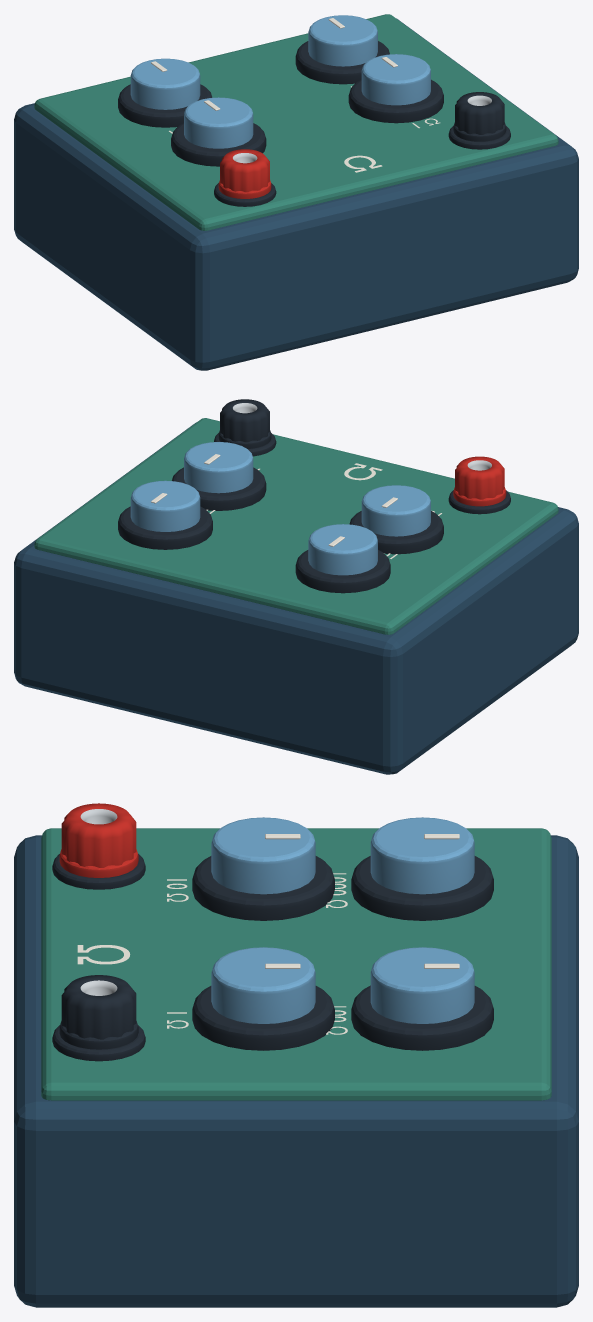
The model's file is resistance-box.glb.
The picture shows the model from 3 angles, top to bottom: view 1: azimuth 30°, elevation 25°; view 2: azimuth 150°, elevation 25°; view 3: azimuth 270°, elevation 25°; orthographic projection. The views are drawn at different scales.
Parts seen in each view (by area): view 1: Insulated resistance box shell, Recessed decade panel, Molded selector cap, Molded selector cap.003, Molded selector cap.002, Molded selector cap.001, Knob fixed skirt.003, p binding socket, n binding socket, Knob fixed skirt.002, Knob fixed skirt, Knob fixed skirt.001 (+2 smaller); view 2: Insulated resistance box shell, Recessed decade panel, Molded selector cap.001, Molded selector cap, Molded selector cap.002, Molded selector cap.003, Knob fixed skirt, Knob fixed skirt.001, p binding socket, n binding socket, Knob fixed skirt.003, Knob fixed skirt.002 (+1 smaller); view 3: Insulated resistance box shell, Recessed decade panel, Molded selector cap.003, Molded selector cap, Molded selector cap.002, Molded selector cap.001, Knob fixed skirt.002, Knob fixed skirt, Knob fixed skirt.003, Knob fixed skirt.001, p binding socket, n binding socket (+4 smaller).
Boxes of the visible parts, <box> form: Insulated resistance box shell: <box>14,18,578,370</box>; Recessed decade panel: <box>34,14,558,230</box>; Molded selector cap: <box>130,58,200,109</box>; Molded selector cap.003: <box>361,54,430,105</box>; Molded selector cap.002: <box>184,97,253,148</box>; Molded selector cap.001: <box>308,15,377,66</box>; Knob fixed skirt.003: <box>348,79,443,123</box>; p binding socket: <box>220,149,269,192</box>; n binding socket: <box>455,92,504,134</box>; Knob fixed skirt.002: <box>171,123,266,166</box>; Knob fixed skirt: <box>118,84,212,127</box>; Knob fixed skirt.001: <box>295,41,389,84</box>; Insulated resistance box shell: <box>14,422,578,774</box>; Recessed decade panel: <box>34,418,558,634</box>; Molded selector cap.001: <box>130,480,200,531</box>; Molded selector cap: <box>308,524,377,575</box>; Molded selector cap.002: <box>361,485,430,536</box>; Molded selector cap.003: <box>184,442,253,493</box>; Knob fixed skirt: <box>295,550,390,593</box>; Knob fixed skirt.001: <box>118,506,212,549</box>; p binding socket: <box>455,456,504,499</box>; n binding socket: <box>220,399,269,442</box>; Knob fixed skirt.003: <box>172,467,266,510</box>; Knob fixed skirt.002: <box>349,511,443,554</box>; Insulated resistance box shell: <box>14,835,578,1307</box>; Recessed decade panel: <box>41,828,551,1100</box>; Molded selector cap.003: <box>211,947,315,1023</box>; Molded selector cap: <box>370,817,474,894</box>; Molded selector cap.002: <box>211,817,315,894</box>; Molded selector cap.001: <box>370,947,474,1023</box>; Knob fixed skirt.002: <box>192,856,334,920</box>; Knob fixed skirt: <box>351,856,493,920</box>; Knob fixed skirt.003: <box>192,986,334,1050</box>; Knob fixed skirt.001: <box>351,985,493,1050</box>; p binding socket: <box>61,803,136,867</box>; n binding socket: <box>61,975,136,1039</box>.
Size of the model in its own units: 0.122 by 0.0564 by 0.103.
